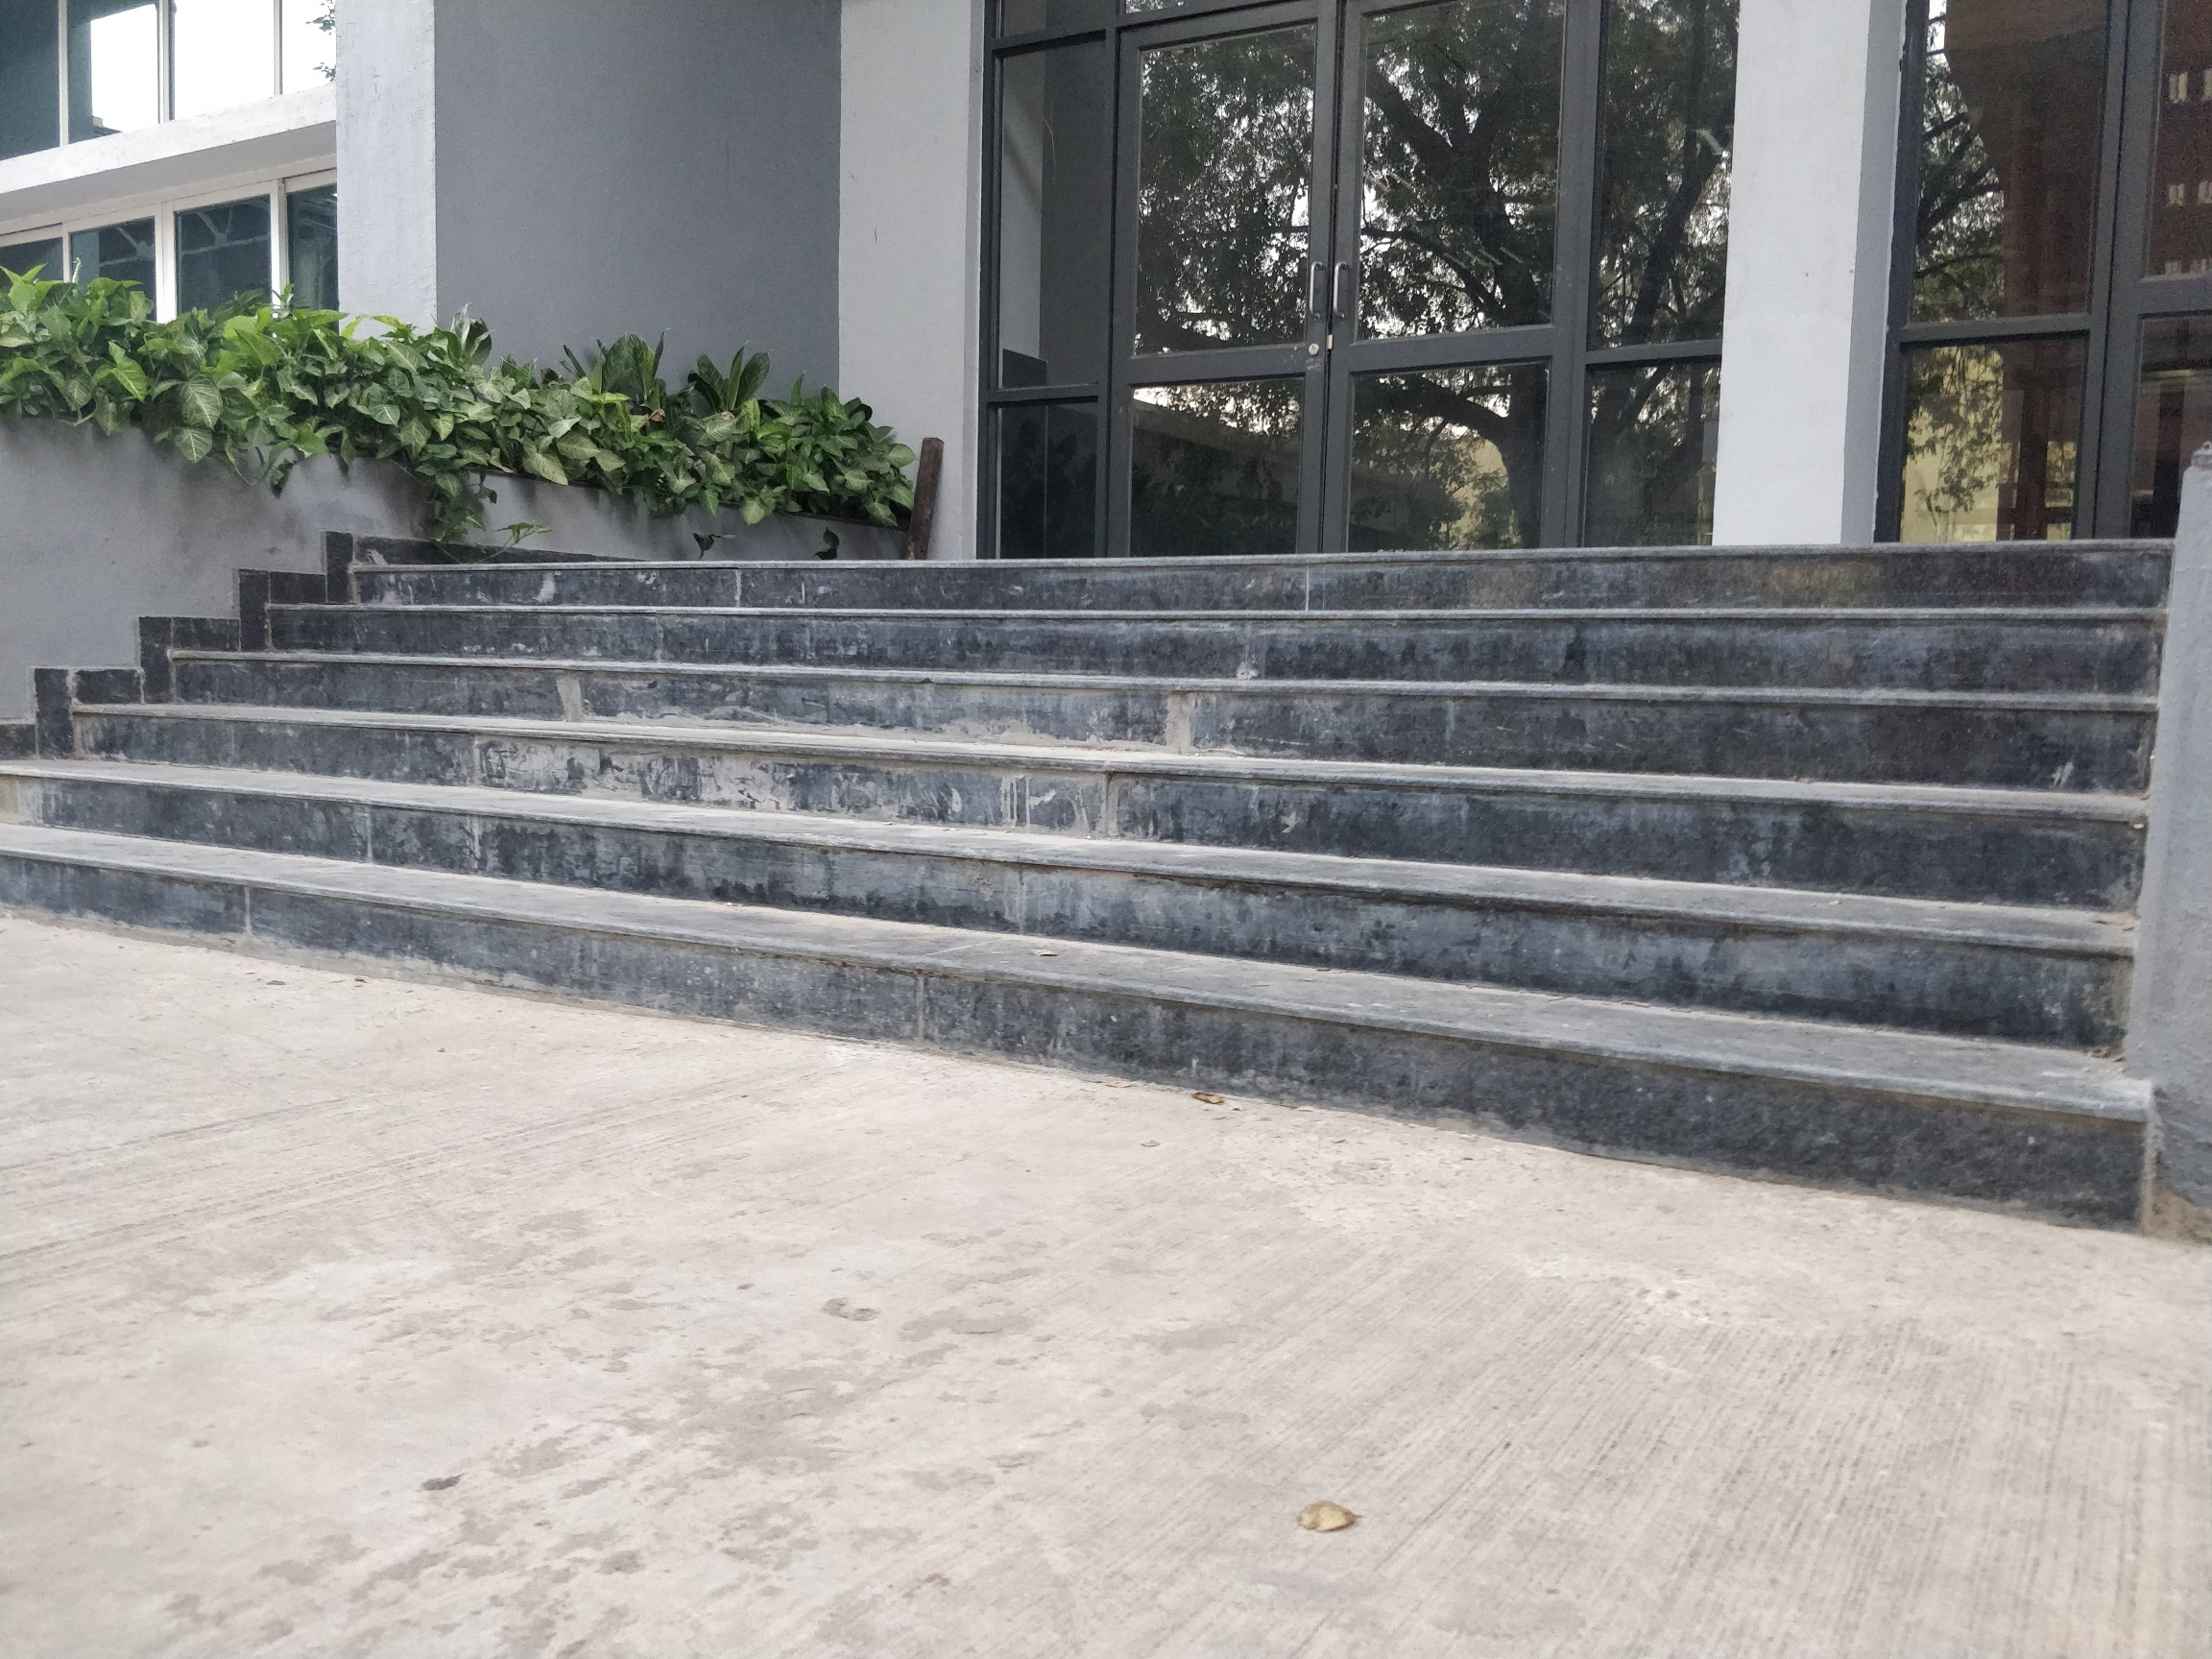stairs_up: (38, 526, 2172, 1016)
